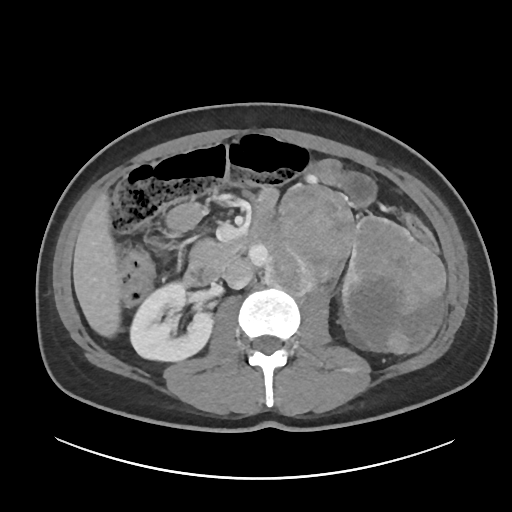Lesion: (339, 218, 447, 315)
